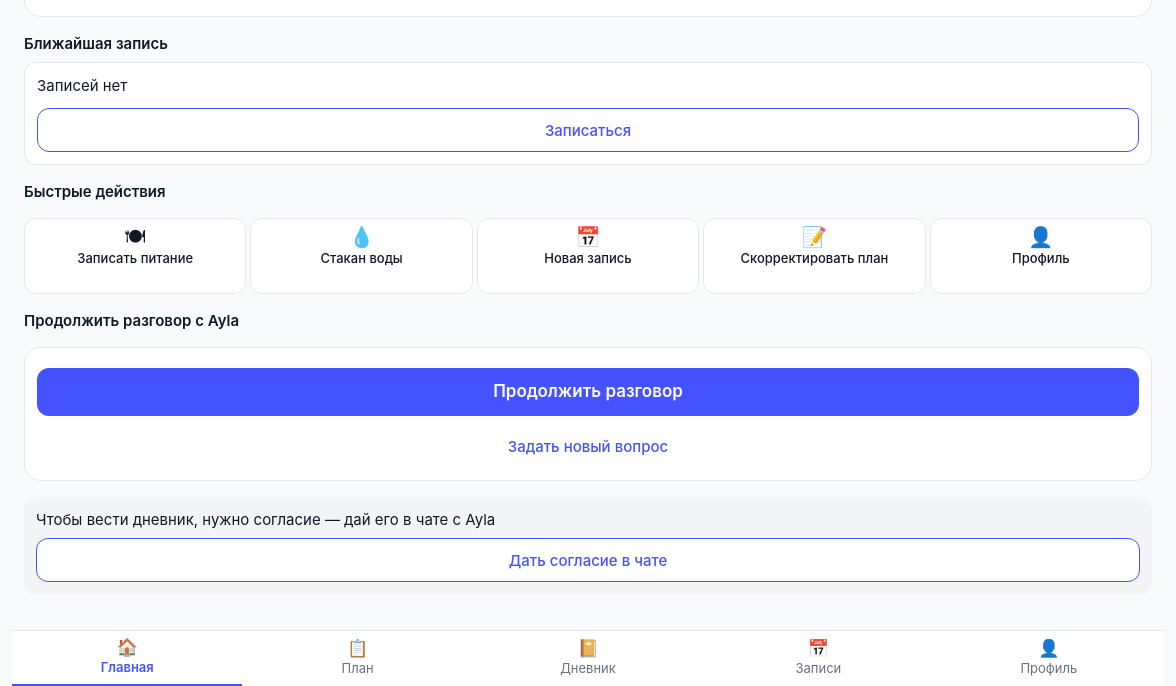
Test: H01 · нет согласия дневника › сбой отправки — приложение НЕ закрывается молча, сказано, что делать
(page scrolled)
Click the button "Дать согласие в чате" at point(588, 560), box [36,538,1140,582]
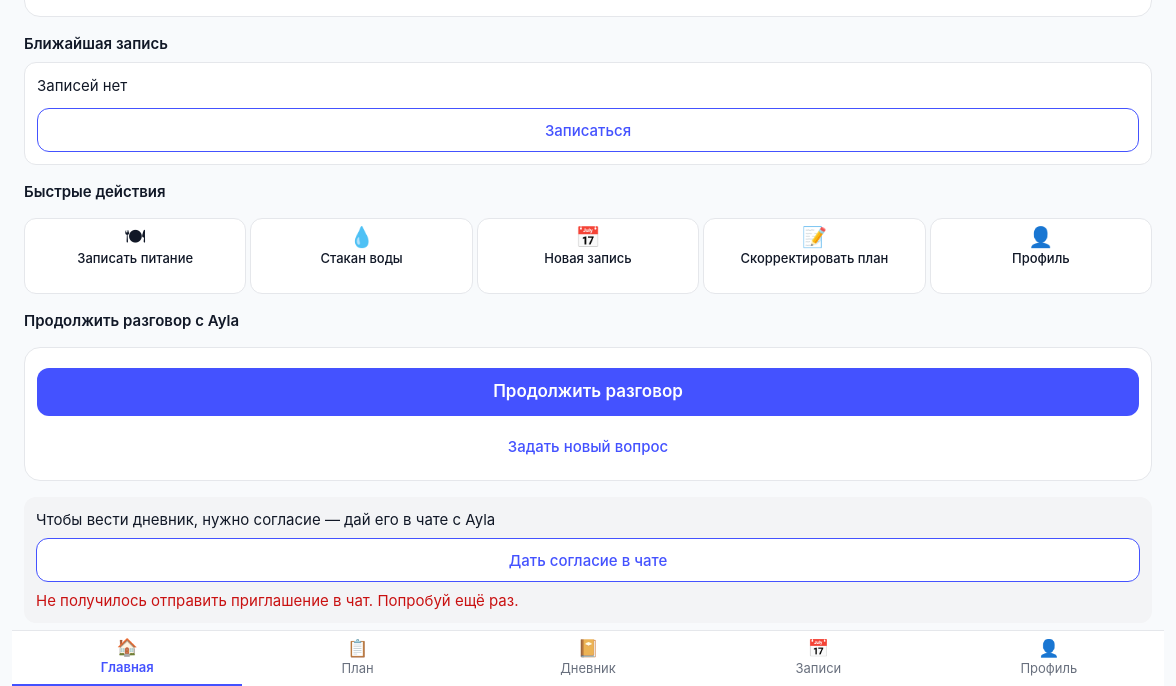
Now the message shows "Не получилось", box [36,591,518,610]
